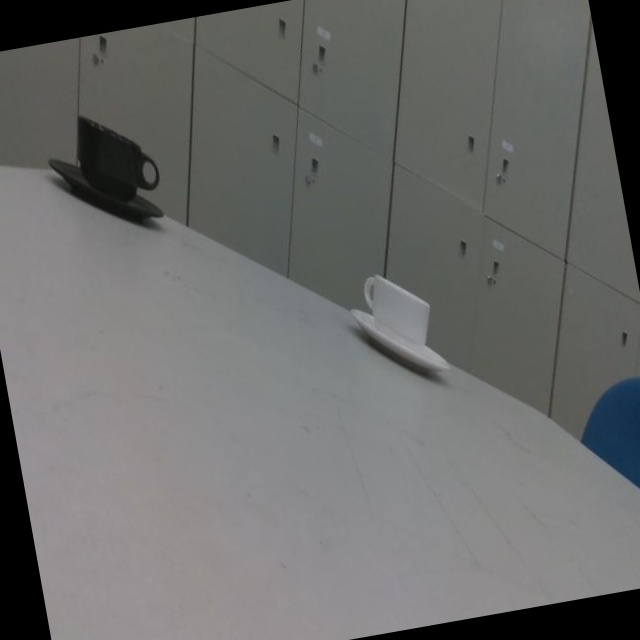black: (49, 108, 158, 229)
white: (352, 268, 445, 386)
